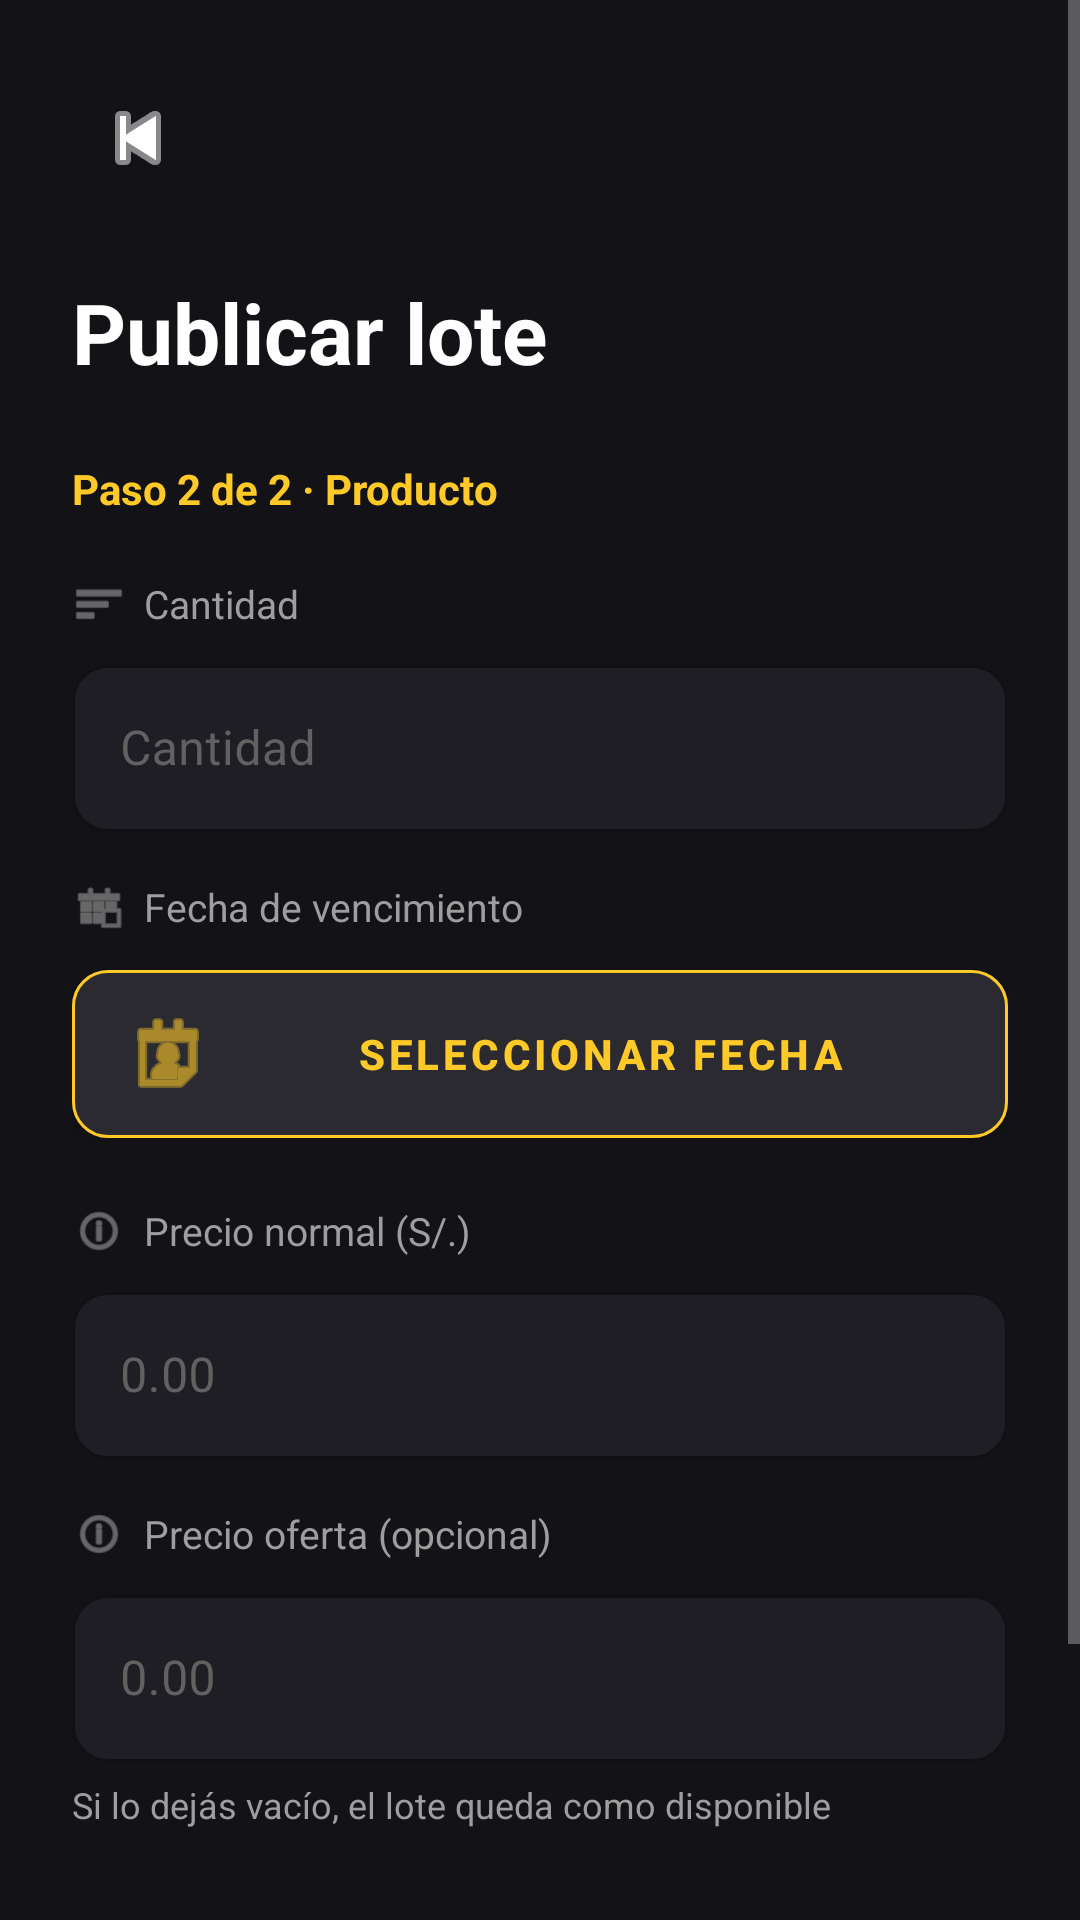

Icon click points for this 1080px x 1920px phone screenshot, format point (x, y):
Volver atrás: point (138, 138)
